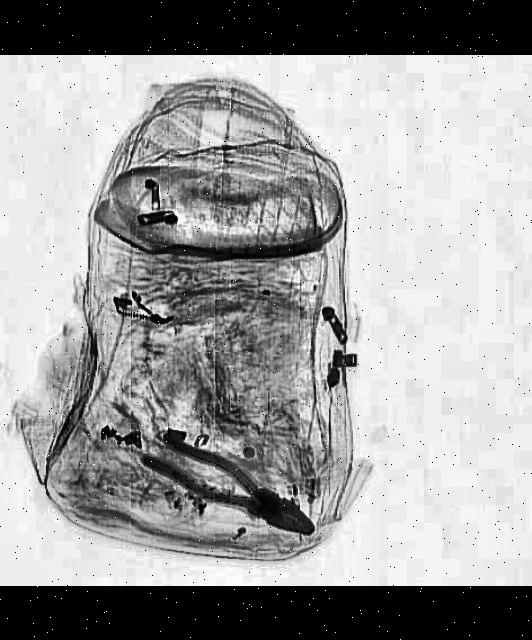Pliers: (144, 426, 328, 550)
